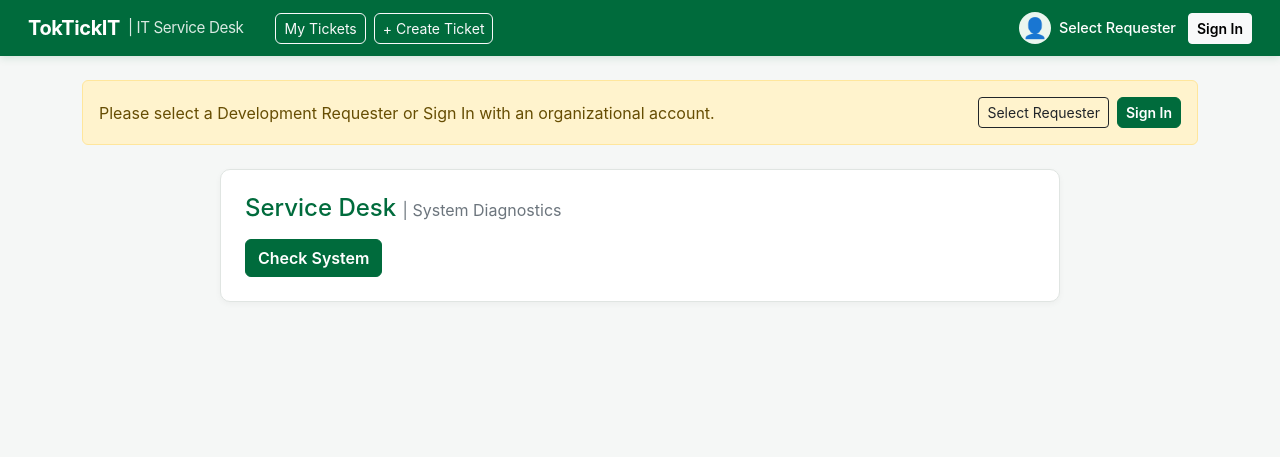
Test: App › shows an Offline error message when the API is unavailable
Click the button "Check System": (314, 258) [245,239,382,277]
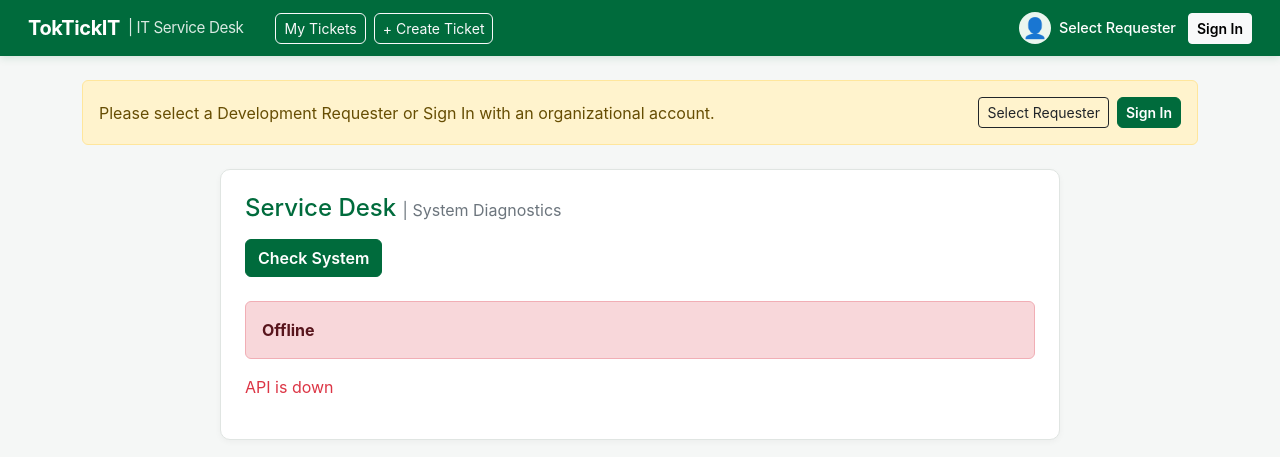
Check: the text "Offline" is shown, box [245,301,1035,359]
Check: the text "API is down" is shown, box [245,377,334,397]
